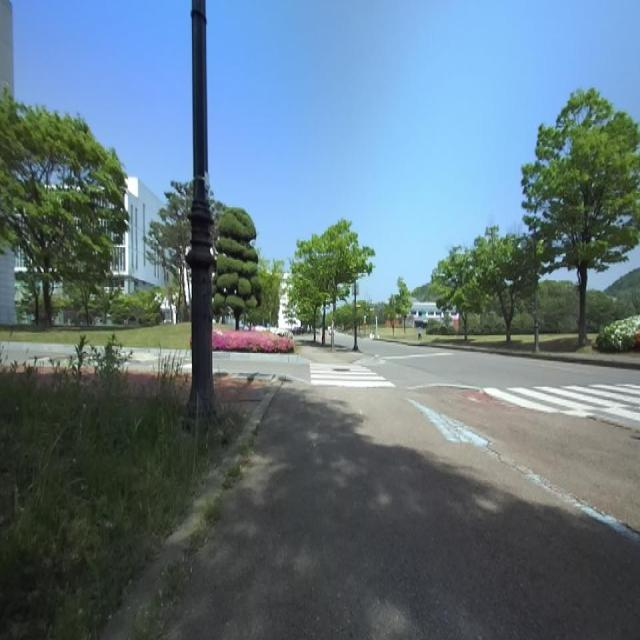sidewalk: (97, 372, 640, 640), (294, 337, 375, 364)
